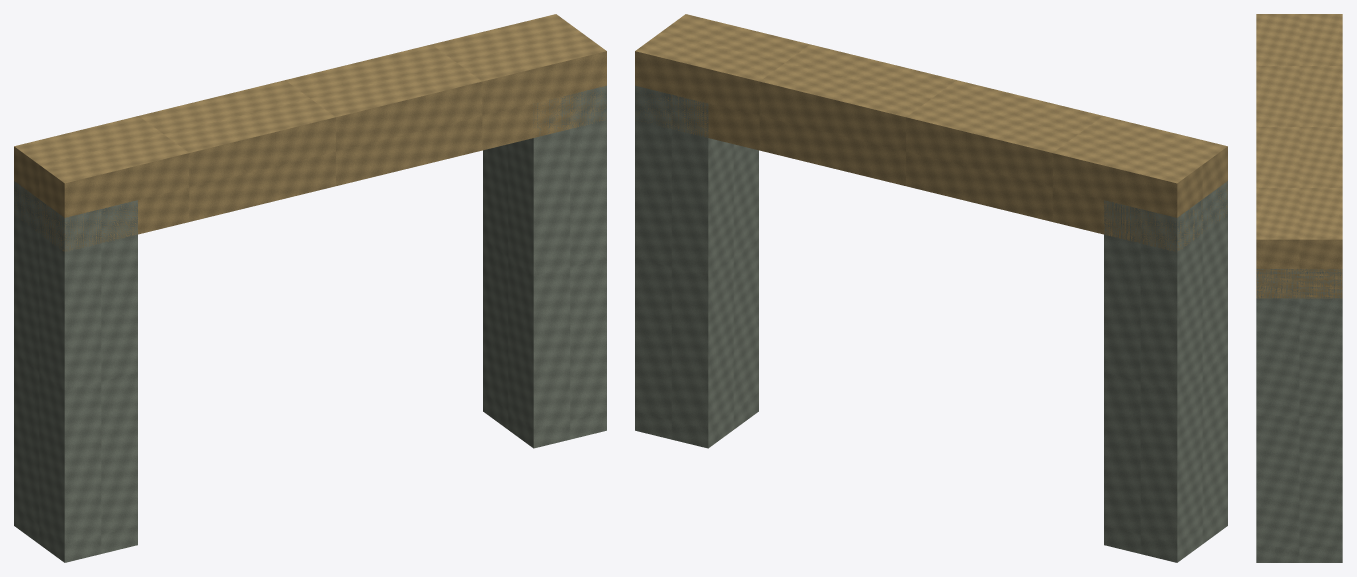
File: arch.glb
The picture shows the model from 3 angles, left to right: view 1: azimuth 30°, elevation 25°; view 2: azimuth 150°, elevation 25°; view 3: azimuth 270°, elevation 25°; orthographic projection. The views are drawn at different scales.
Visible parts, largest first — view 1: lintel, left-pier, right-pier; view 2: lintel, left-pier, right-pier; view 3: right-pier, lintel.
Boxes of the visible parts, x1=… form: lintel: x1=14, y1=14, x2=606, y2=251; left-pier: x1=14, y1=181, x2=137, y2=562; right-pier: x1=483, y1=85, x2=606, y2=448; lintel: x1=635, y1=14, x2=1227, y2=251; left-pier: x1=1104, y1=181, x2=1227, y2=562; right-pier: x1=635, y1=85, x2=758, y2=448; right-pier: x1=1256, y1=269, x2=1342, y2=562; lintel: x1=1256, y1=14, x2=1342, y2=298.
Size of the model in its own units: 7.4 by 4.95 by 1.2.
2 materials, 2 textured.
